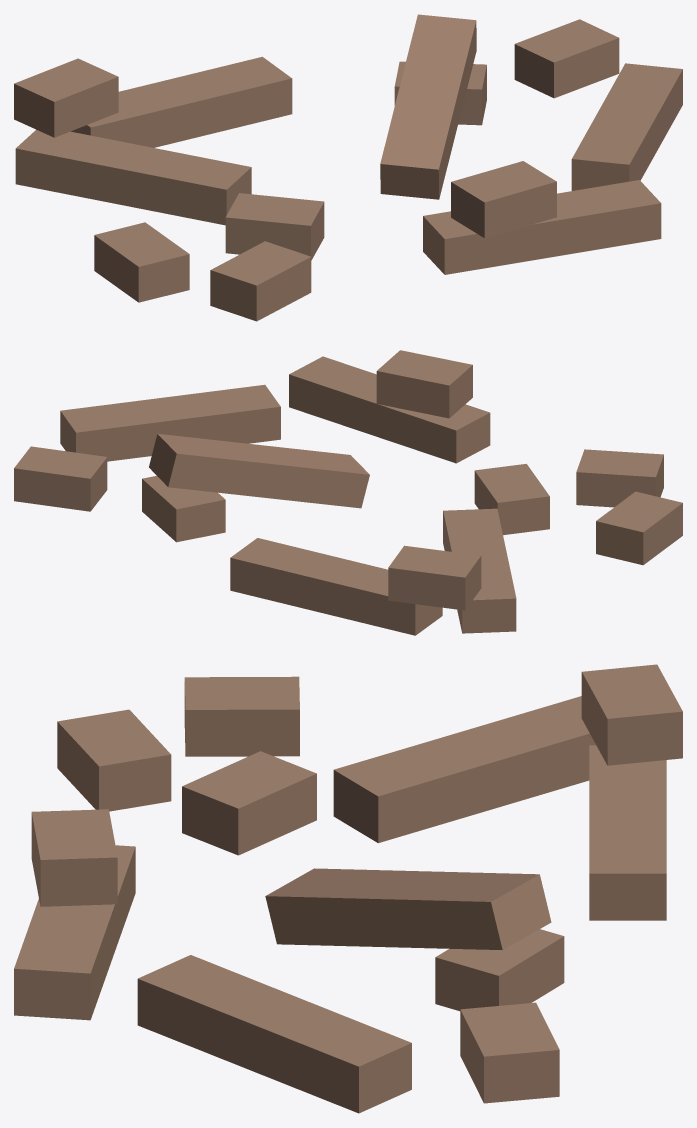
File: 3D_BricksRubbles-B.fbx
3 views of the same model, one above another, from view 1: azimuth 30°, elevation 25°; view 2: azimuth 150°, elevation 25°; view 3: azimuth 270°, elevation 25° (orthographic). The views are drawn at different scales.
Visible parts, largest first — view 1: Cube.001; view 2: Cube.001; view 3: Cube.001.
Part boxes in pixels (bbox=[...]): Cube.001: bbox=[14, 14, 682, 321]; Cube.001: bbox=[14, 350, 682, 635]; Cube.001: bbox=[14, 664, 682, 1113].
Size of the model in its own units: 172 by 24.87 by 125.
Materials: 1 (1 with a texture image).
